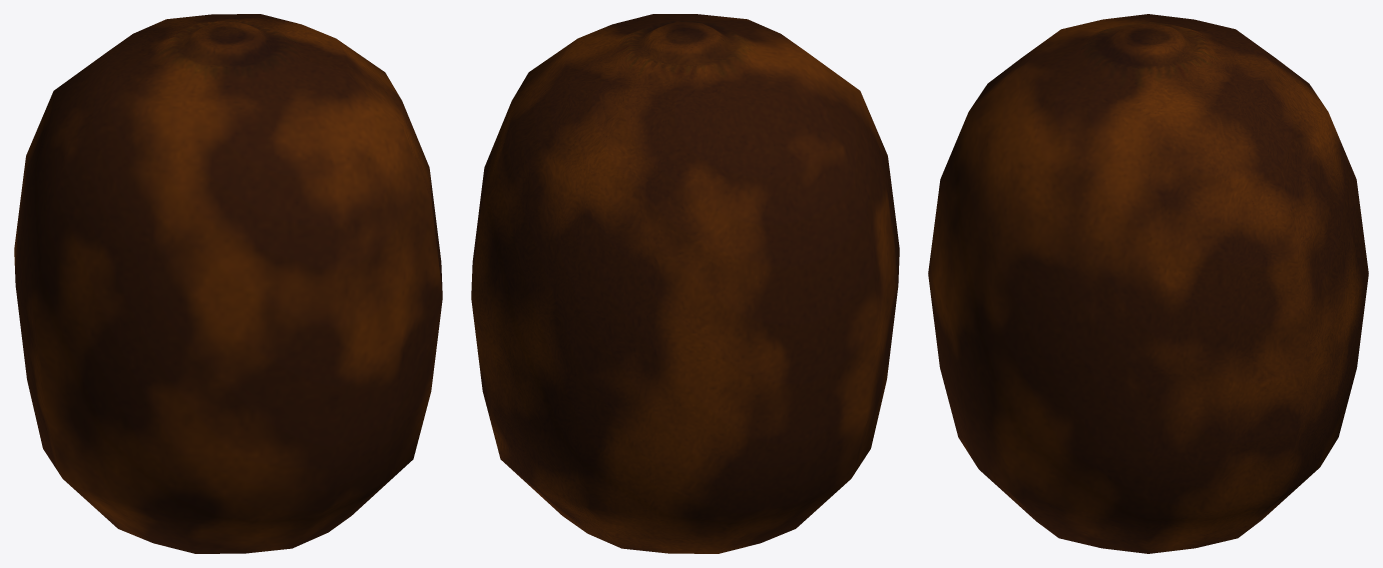
The model's file is KiwiBad.fbx.
3 views of the same model, side by side, from view 1: azimuth 30°, elevation 25°; view 2: azimuth 150°, elevation 25°; view 3: azimuth 270°, elevation 25° (orthographic).
Parts seen in each view (by area): view 1: Sphere; view 2: Sphere; view 3: Sphere.
Part boxes in pixels (x1,y1,x2,y2): Sphere: [14, 14, 442, 553]; Sphere: [471, 14, 899, 553]; Sphere: [928, 14, 1368, 553].
Size of the model in its own units: 200 by 247 by 200.
